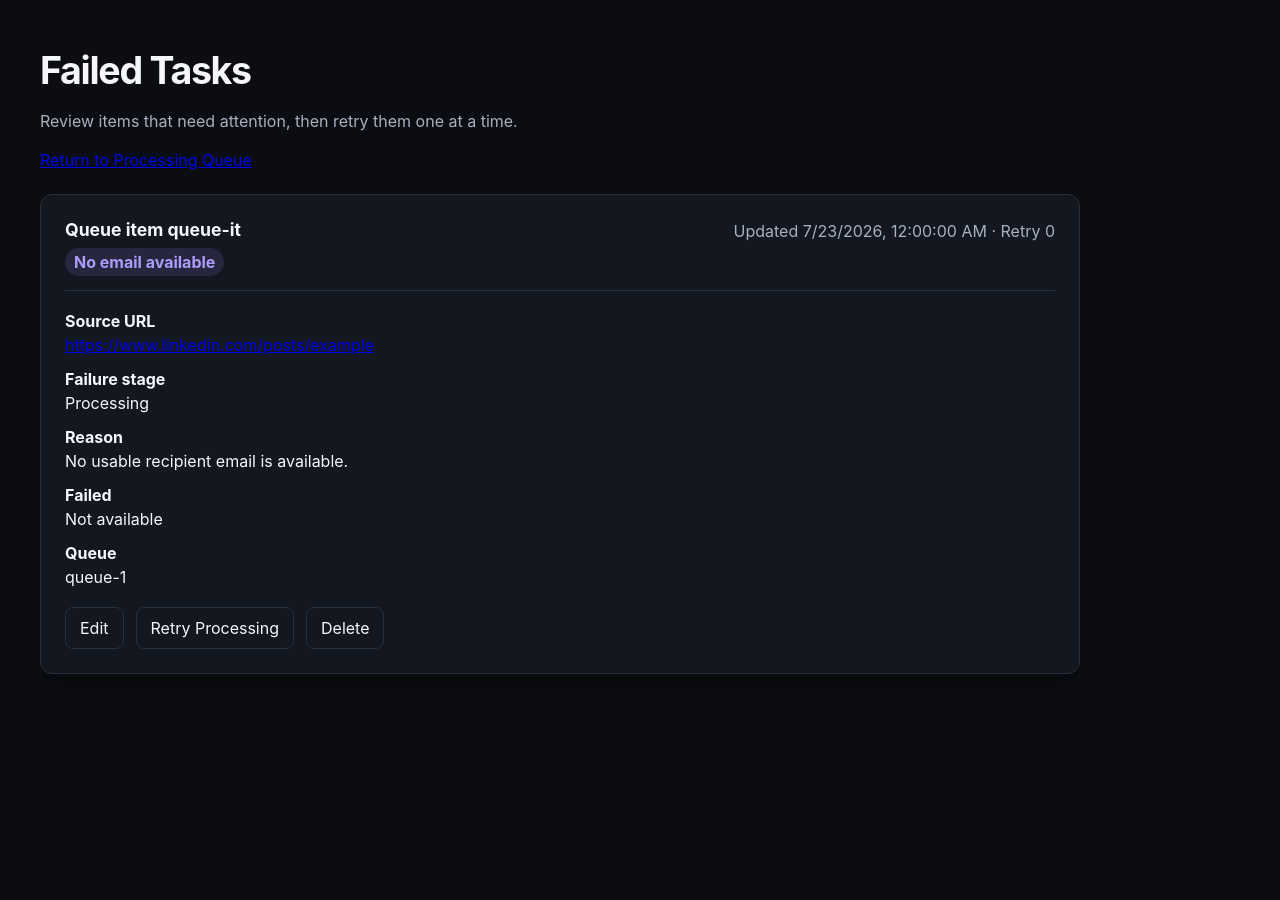
Test case: FailedTasksQueuePage › saves the queue-item ID and enables retry after a successful edit
The image size is (1280, 900).
Click the button "Edit" at (94, 628), box [65,607,124,649]
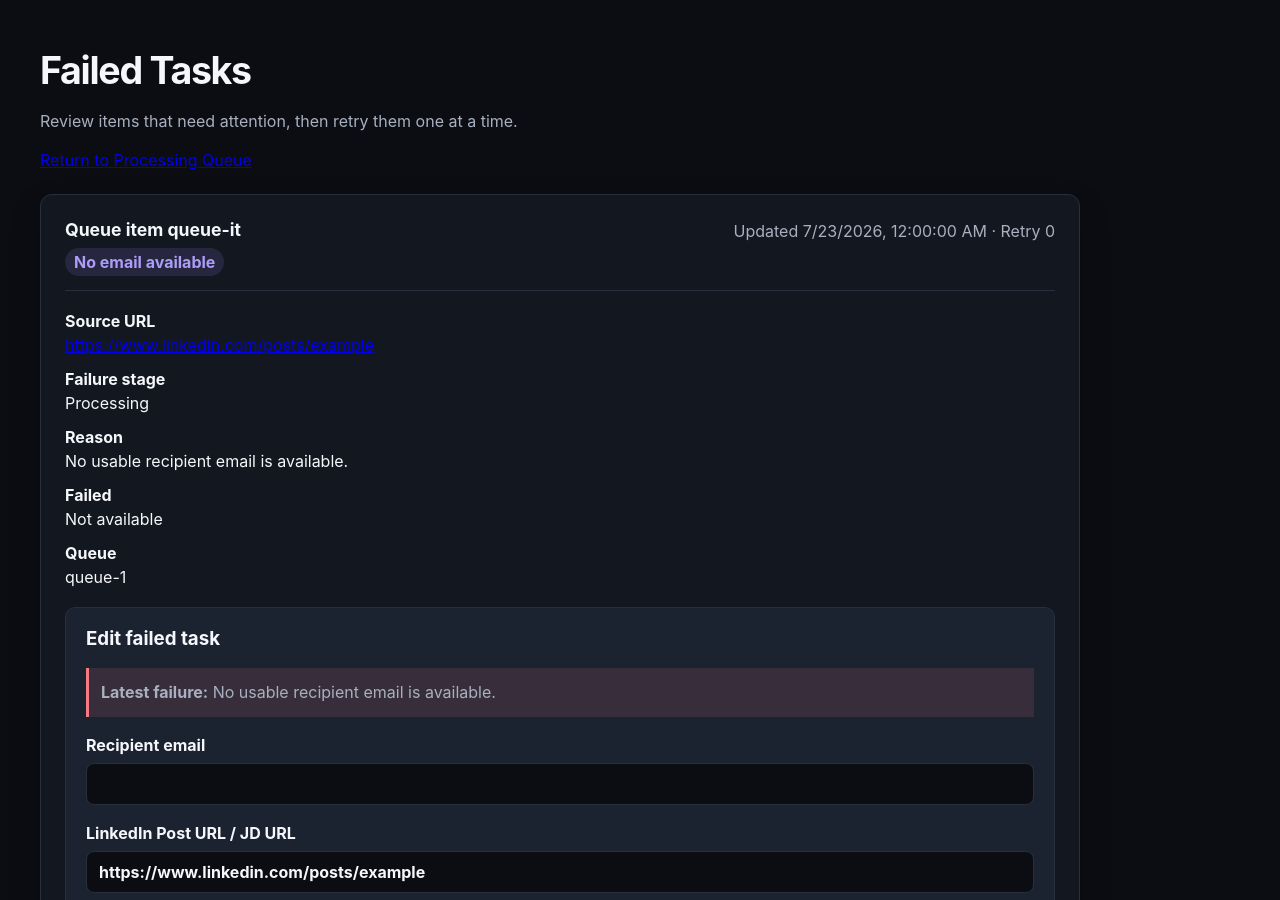
Type "corrected@example.com" into the field labelled "Recipient email" at (560, 784), box [86,763,1034,805]
(page scrolled)
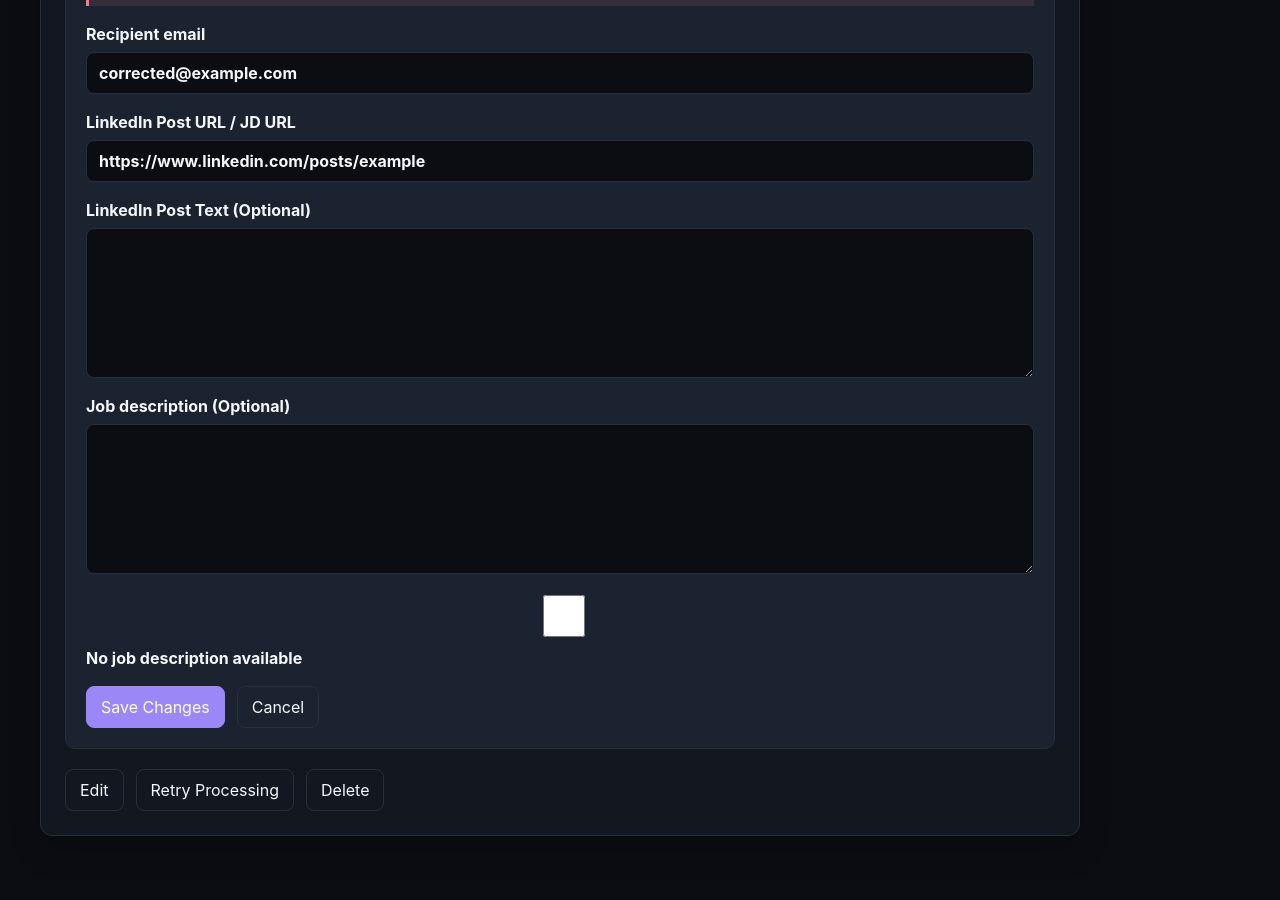
Click the button "Save Changes" at (155, 707), box [86,686,225,728]
(page scrolled)
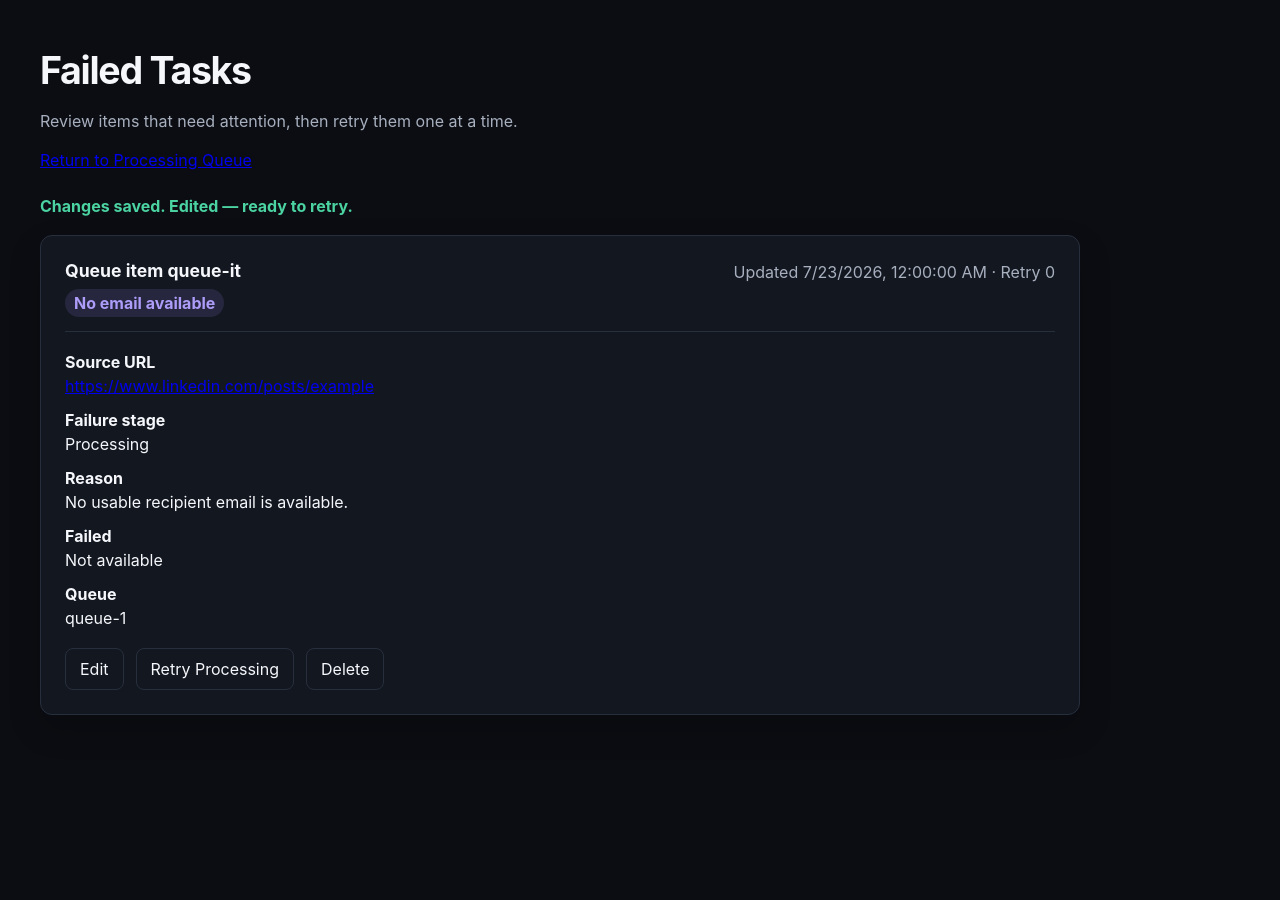
expect the text "Changes saved. Edited — ready to retry." is shown: met, box [40,196,353,216]
expect the button "Retry Processing" is enabled: met, box [136,648,294,690]
